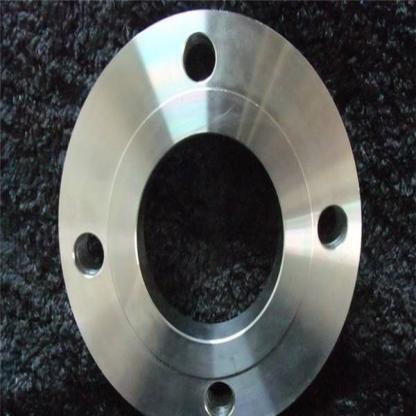FOD: (54, 4, 368, 415)
